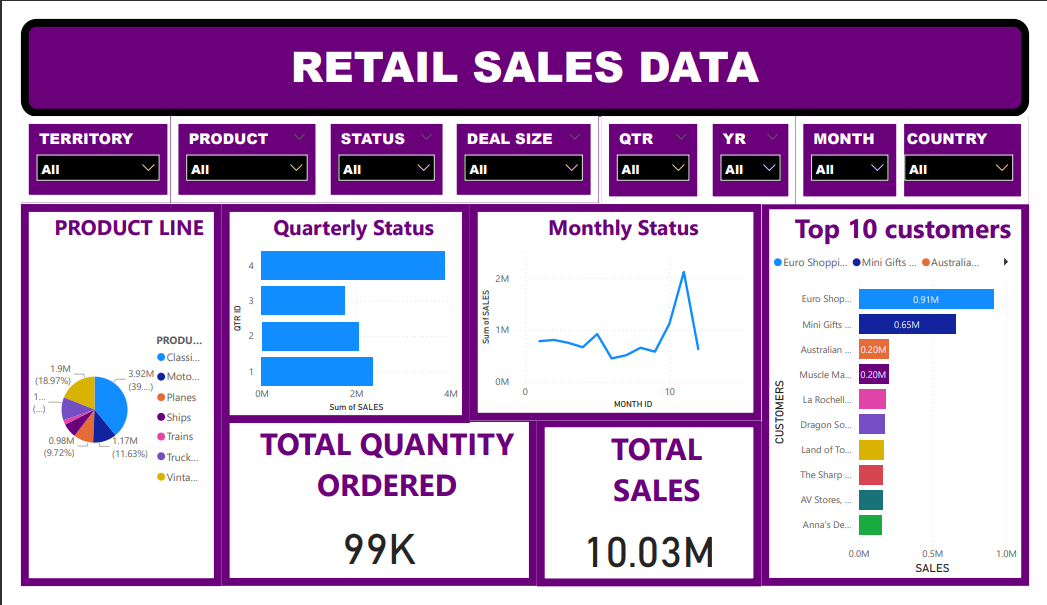

What the dashboard file says about the page in this screenshot:
{"tool":"powerbi","page":{"name":"Page 1","canvas":[1280,720],"ordinal":0},"visuals":[{"type":"textbox","box":[0,0,1280,124],"z":0},{"type":"card","title":"TOTAL SALES","fields":{"Values":["Sum(Sales_table.SALES)"]},"box":[655,508.3,285,211.7],"z":1000},{"type":"card","title":"TOTAL QUANTITY ORDERED","fields":{"Values":["Sum(Sales_table.QUANTITY ORDERED)"]},"box":[255,501.7,400,218.3],"z":2000},{"type":"barChart","title":"Top 10 customers","fields":{"Category":["Sales_table.CUSTOMER NAME"],"Y":["Sum(Sales_table.SALES)"],"Series":["Sales_table.CUSTOMER NAME"]},"box":[940,231.7,340,488.3],"z":3000},{"type":"slicer","fields":{"Values":["Sales_table.TERRITORY"]},"box":[0,124,196,110],"z":4000},{"type":"slicer","fields":{"Values":["Sales_table.QTR ID"]},"box":[736,124,132,112],"z":5000},{"type":"slicer","fields":{"Values":["Sales_table.PRODUCT LINE"]},"box":[190,124,194,110],"z":6000},{"type":"slicer","fields":{"Values":["Sales_table.STATUS"]},"box":[384,124,162,110],"z":7000},{"type":"slicer","fields":{"Values":["Sales_table.DEAL SIZE"]},"box":[544,124,190,110],"z":8000},{"type":"slicer","fields":{"Values":["Sales_table.YEAR ID"]},"box":[868,124,116,112],"z":9000},{"type":"slicer","fields":{"Values":["Sales_table.COUNTRY"]},"box":[1102,124,178,112],"z":10000},{"type":"slicer","fields":{"Values":["Sales_table.MONTH ID"]},"box":[984,124,138,112],"z":11000},{"type":"lineChart","title":"Monthly Status","fields":{"Y":["Sum(Sales_table.SALES)"],"Category":["Sales_table.MONTH ID"]},"box":[570,235,370,275],"z":12000},{"type":"barChart","title":"Quarterly Status","fields":{"Category":["Sales_table.QTR ID"],"Y":["Sum(Sales_table.SALES)"]},"box":[255,235,315,278.3],"z":13000},{"type":"pieChart","title":"PRODUCT LINE","fields":{"Y":["Sum(Sales_table.SALES)"],"Series":["Sales_table.PRODUCT LINE"]},"box":[0,235,255,485],"z":13001}]}

Visuals, with their boxes in screenshot pixels (x1, y1, x2, y2), scaled from the page's 1280x720 canvas onto the 1047x605 screenshot:
textbox: {"x1": 0, "y1": 0, "x2": 1046, "y2": 104}
"TOTAL SALES" card: {"x1": 536, "y1": 427, "x2": 769, "y2": 604}
"TOTAL QUANTITY ORDERED" card: {"x1": 209, "y1": 422, "x2": 536, "y2": 604}
"Top 10 customers" barChart: {"x1": 769, "y1": 195, "x2": 1046, "y2": 604}
slicer - Sales_table.TERRITORY: {"x1": 0, "y1": 104, "x2": 160, "y2": 197}
slicer - Sales_table.QTR ID: {"x1": 602, "y1": 104, "x2": 710, "y2": 198}
slicer - Sales_table.PRODUCT LINE: {"x1": 155, "y1": 104, "x2": 314, "y2": 197}
slicer - Sales_table.STATUS: {"x1": 314, "y1": 104, "x2": 447, "y2": 197}
slicer - Sales_table.DEAL SIZE: {"x1": 445, "y1": 104, "x2": 600, "y2": 197}
slicer - Sales_table.YEAR ID: {"x1": 710, "y1": 104, "x2": 805, "y2": 198}
slicer - Sales_table.COUNTRY: {"x1": 901, "y1": 104, "x2": 1046, "y2": 198}
slicer - Sales_table.MONTH ID: {"x1": 805, "y1": 104, "x2": 918, "y2": 198}
"Monthly Status" lineChart: {"x1": 466, "y1": 197, "x2": 769, "y2": 429}
"Quarterly Status" barChart: {"x1": 209, "y1": 197, "x2": 466, "y2": 431}
"PRODUCT LINE" pieChart: {"x1": 0, "y1": 197, "x2": 209, "y2": 604}
